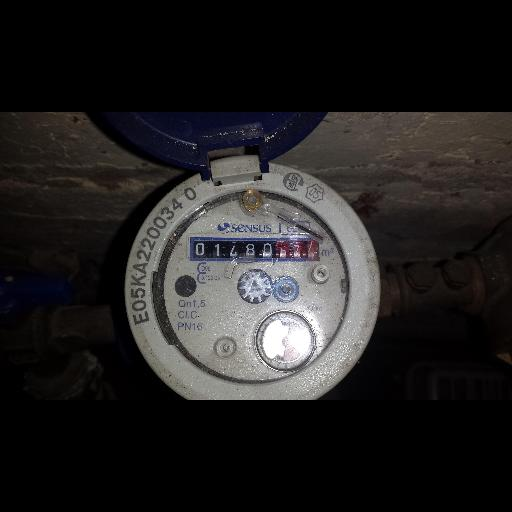0: (259, 241, 275, 258), (193, 241, 207, 258)
1: (208, 241, 223, 258)
4: (223, 241, 240, 258)
6: (275, 241, 291, 258)
7: (292, 241, 307, 257), (307, 241, 320, 258)
8: (240, 241, 258, 258)
border_water_meter_number: (190, 237, 320, 261)
